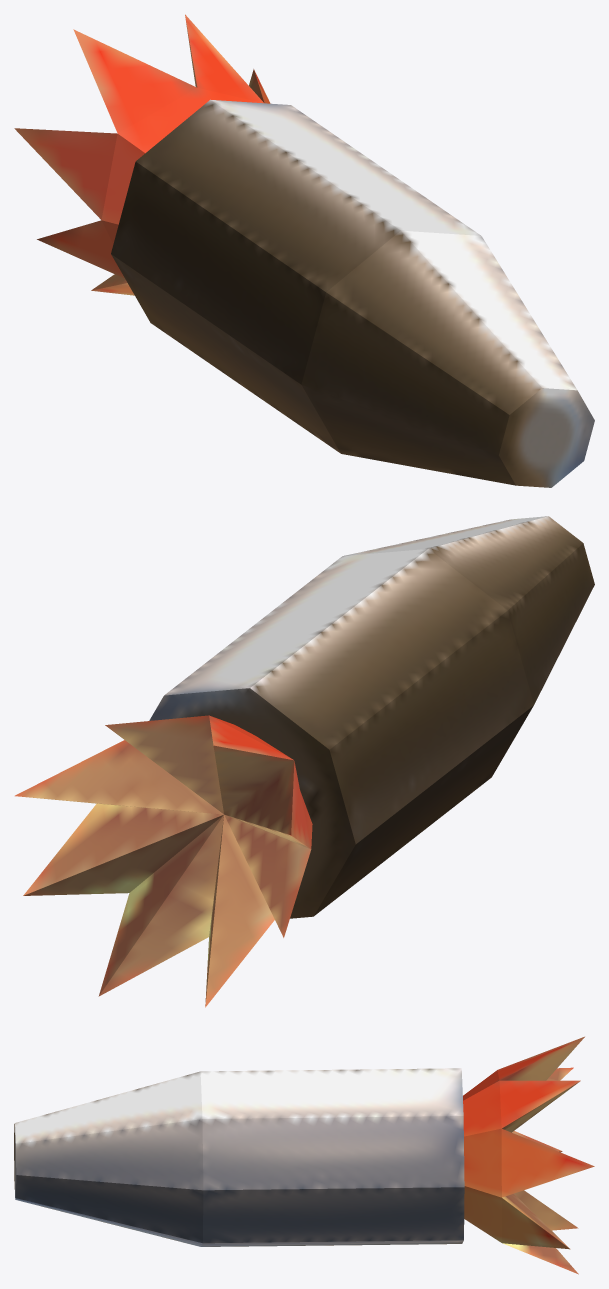
3 renders of one model, top to bottom at view 1: azimuth 30°, elevation 25°; view 2: azimuth 150°, elevation 25°; view 3: azimuth 270°, elevation 25°, orthographic. The views are drawn at different scales.
Parts seen in each view (by area): view 1: Bala_Cylinder.003, Fogonazo_Cylinder.004; view 2: Bala_Cylinder.003, Fogonazo_Cylinder.004; view 3: Bala_Cylinder.003, Fogonazo_Cylinder.004.
Boxes of the visible parts, x1=… form: Bala_Cylinder.003: x1=111, y1=99, x2=594, y2=487; Fogonazo_Cylinder.004: x1=14, y1=14, x2=270, y2=295; Bala_Cylinder.003: x1=149, y1=516, x2=594, y2=918; Fogonazo_Cylinder.004: x1=15, y1=715, x2=312, y2=1007; Bala_Cylinder.003: x1=14, y1=1068, x2=464, y2=1246; Fogonazo_Cylinder.004: x1=463, y1=1036, x2=594, y2=1274.
Size of what is drawn, in the model's own units: 0.3279 by 0.3285 by 0.8746.
